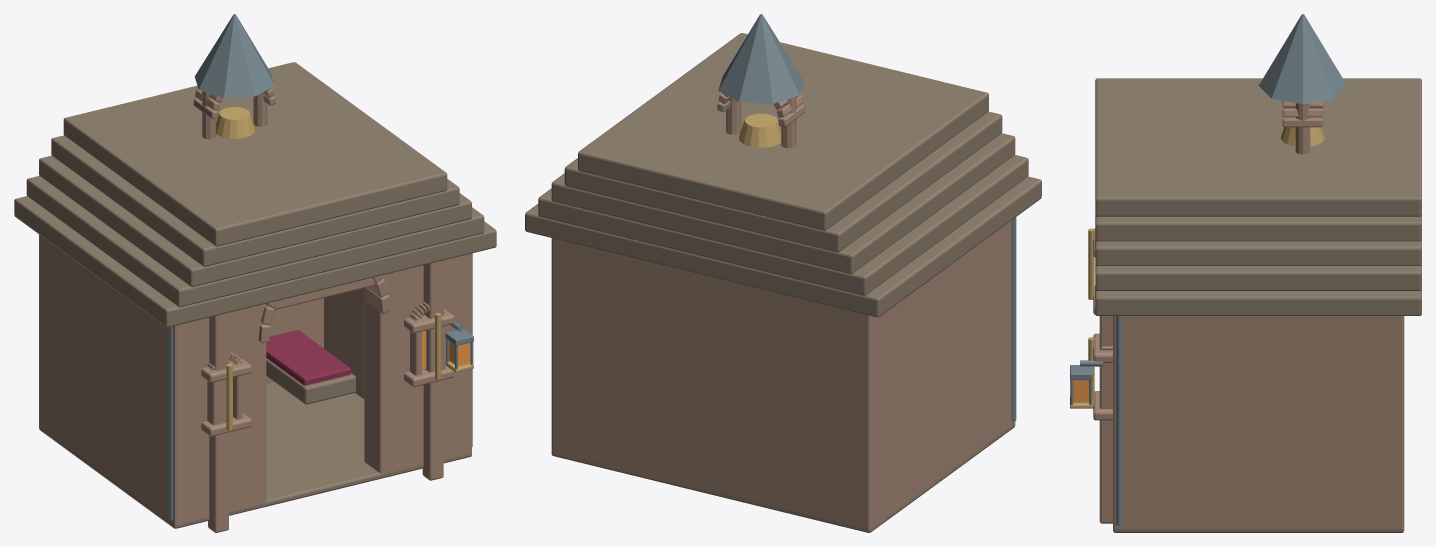
Rendered from a2_service_1.glb.
3 renders of one model, left to right at view 1: azimuth 30°, elevation 25°; view 2: azimuth 150°, elevation 25°; view 3: azimuth 270°, elevation 25°, orthographic. The views are drawn at different scales.
Visible parts, largest first — view 1: Roof.001, Front.001, Side.001, Body.001; view 2: Roof.001, Body.001, Side.001; view 3: Roof.001, Side.001, Body.001, Front.001.
Part boxes in pixels (x1,y1,x2,y2): Roof.001: (14, 14, 496, 327); Front.001: (159, 254, 473, 532); Side.001: (39, 236, 472, 528); Body.001: (39, 234, 471, 528); Roof.001: (525, 14, 1041, 317); Body.001: (551, 238, 1015, 532); Side.001: (552, 217, 1016, 532); Roof.001: (1095, 14, 1421, 315); Side.001: (1113, 316, 1401, 531); Body.001: (1113, 316, 1404, 532); Front.001: (1070, 228, 1146, 532).
Size of the model in its own units: 3.22 by 3.92 by 2.78.
